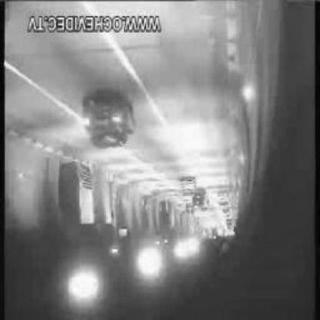other: (172, 233, 204, 261), (66, 273, 100, 299), (135, 244, 161, 278)
